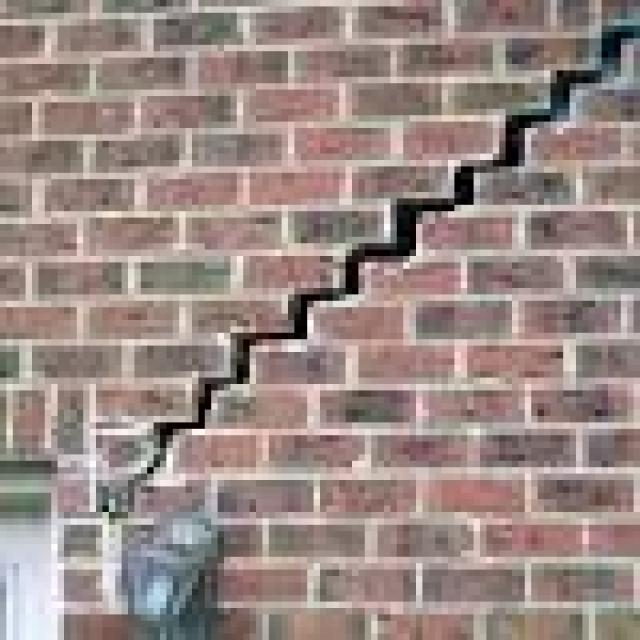Crack: (102, 7, 628, 500)
